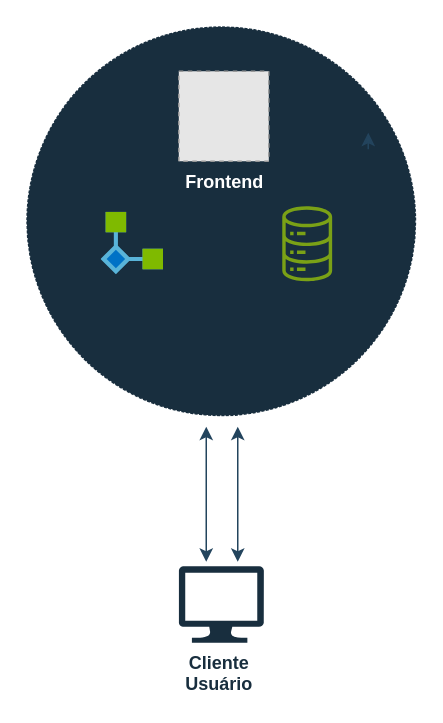
Image size: 443x723. Some labels were removed from this diagram. Grey dashed boxes stand in for pictures. The shapes that lost their labels are listed below. From the top down, each one's centre as x and y in pixels, then its label:
At [131,243]: "Lógica".
At [306,243]: "Banco de Dados".
